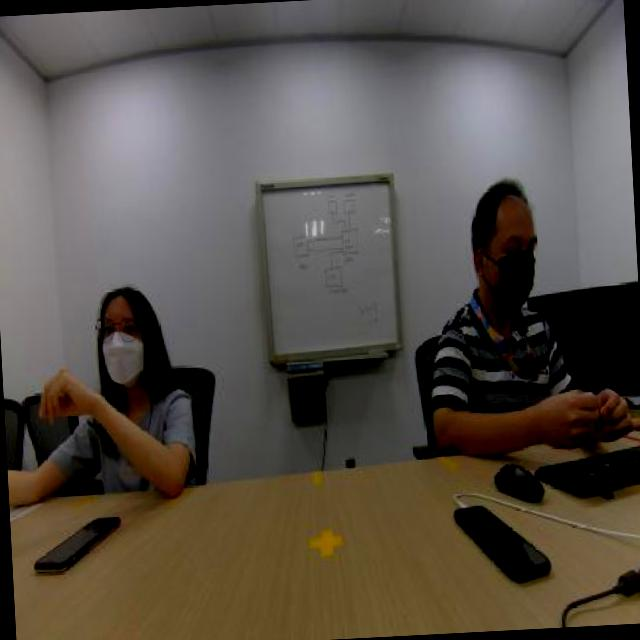Person: (21, 198, 216, 490), (399, 152, 574, 460)
